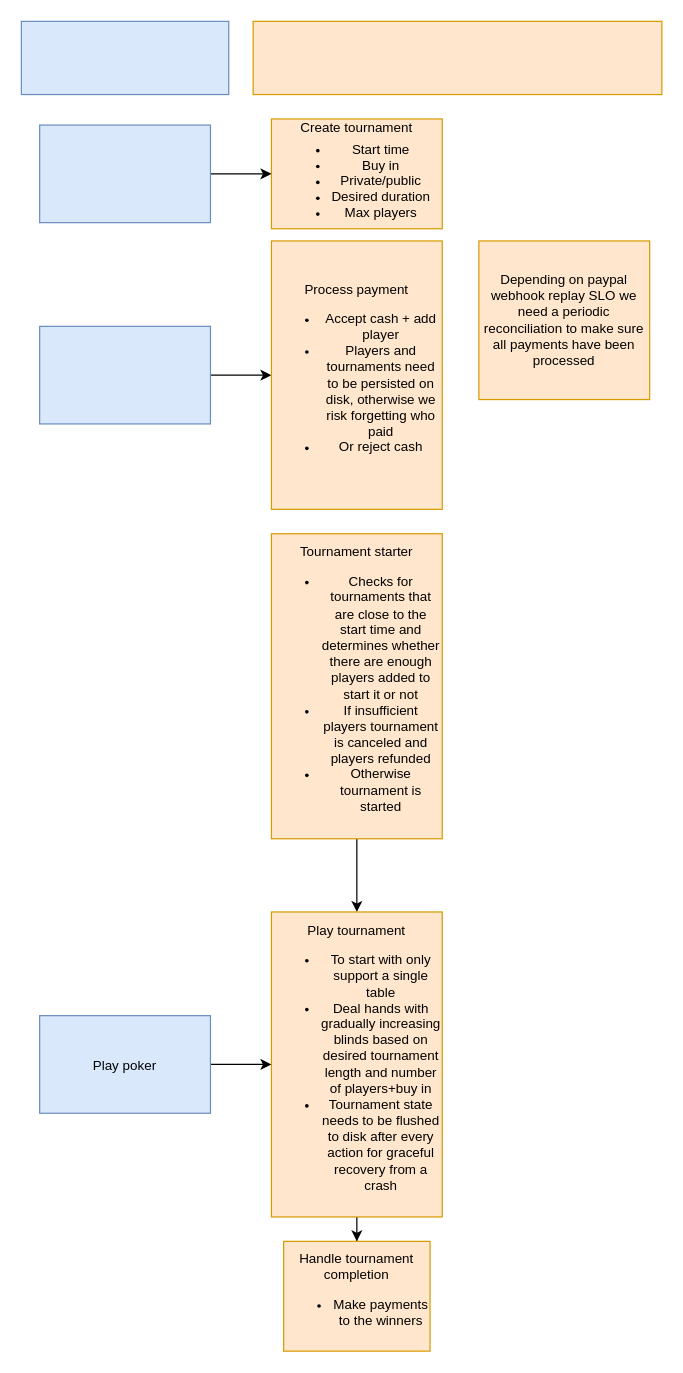
The diagram is 683 pixels wide and 1373 high, and some of its shapes have lost their labels. Here are the shapes that lost their labels. From the top down, the centre of each, then its label:
[124,57]: Gopoker client
[457,57]: Gopoker server
[124,173]: Create a tournament
[124,374]: Make payment
